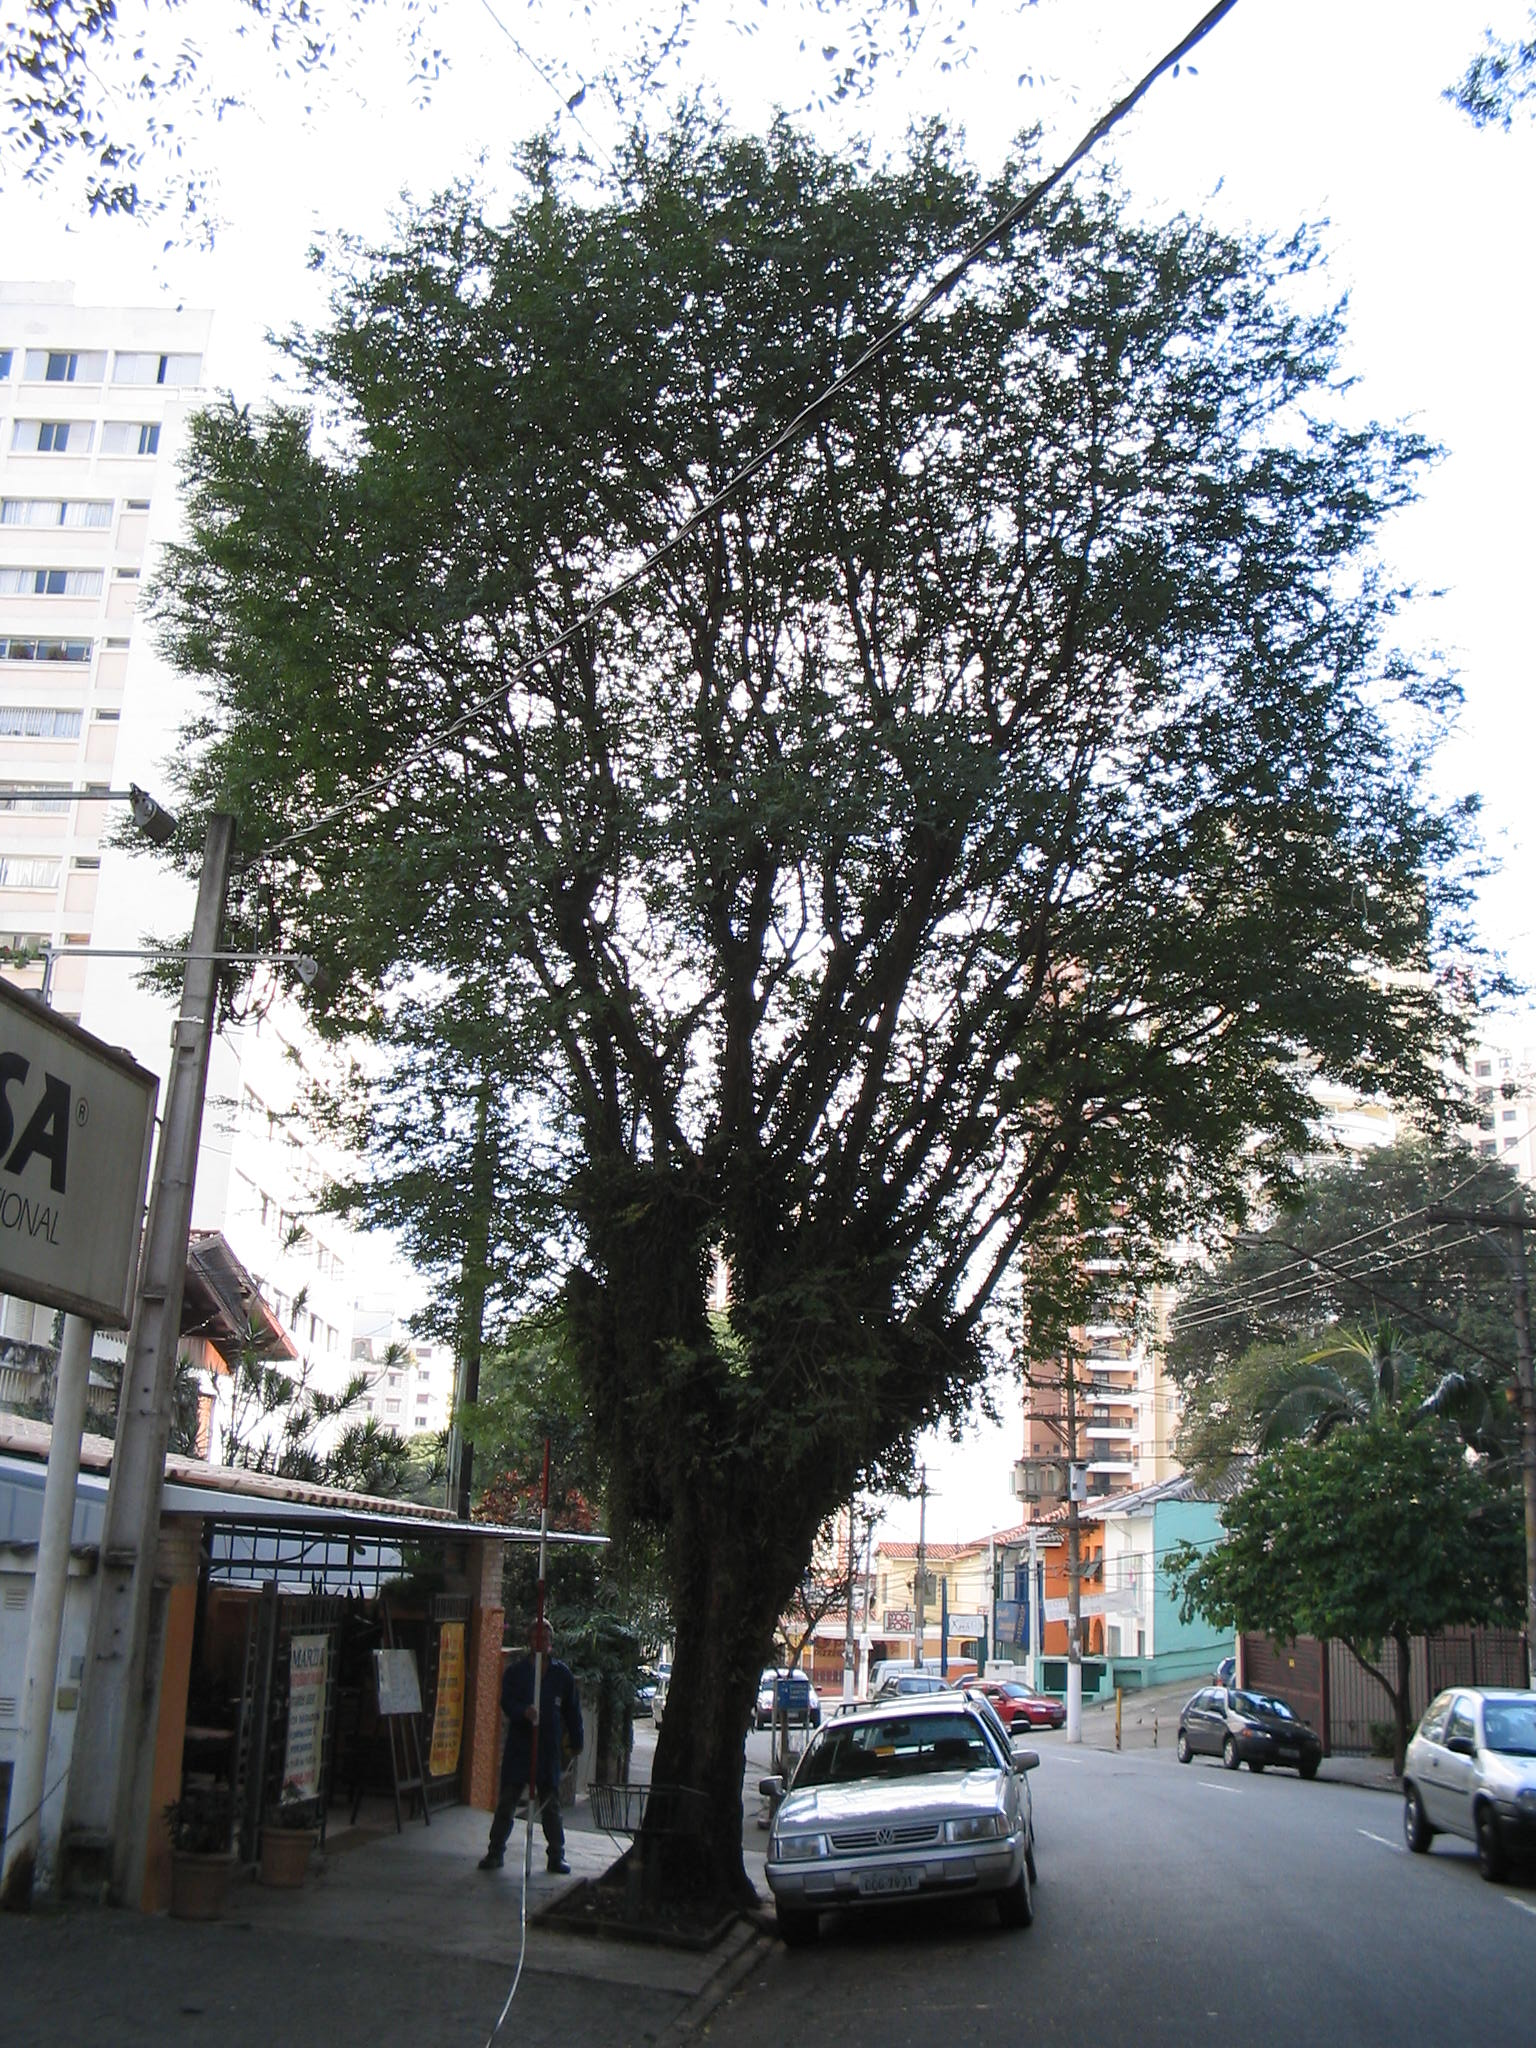crown: (110, 100, 1526, 1379)
stem: (594, 1493, 839, 1908)
stick: (515, 1438, 565, 1877)
tree: (103, 95, 1530, 1925)
